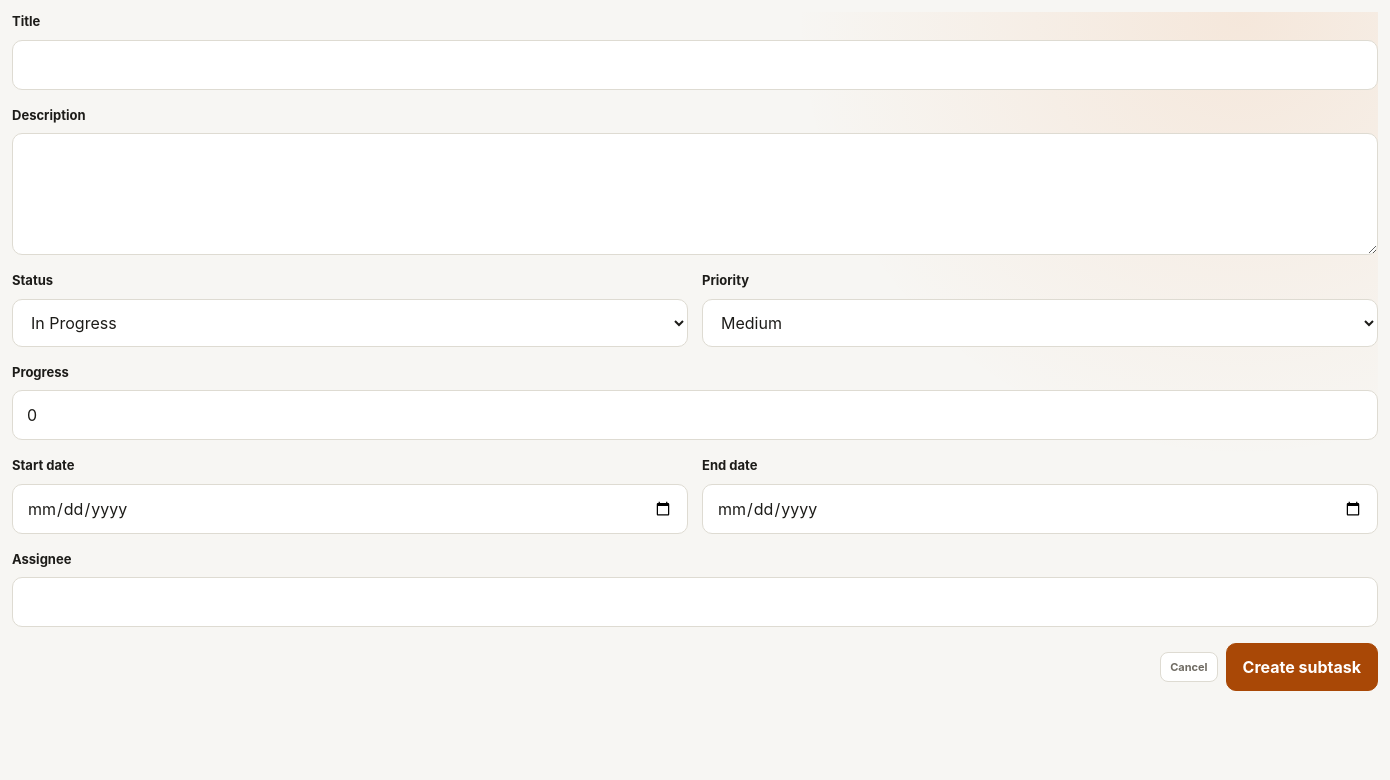
it: WorkItemForm › shows clear validation errors without submitting
Step 1. Replace the text in the number field labelled "Progress" with "150" → (695, 415), box [12,390,1378,440]
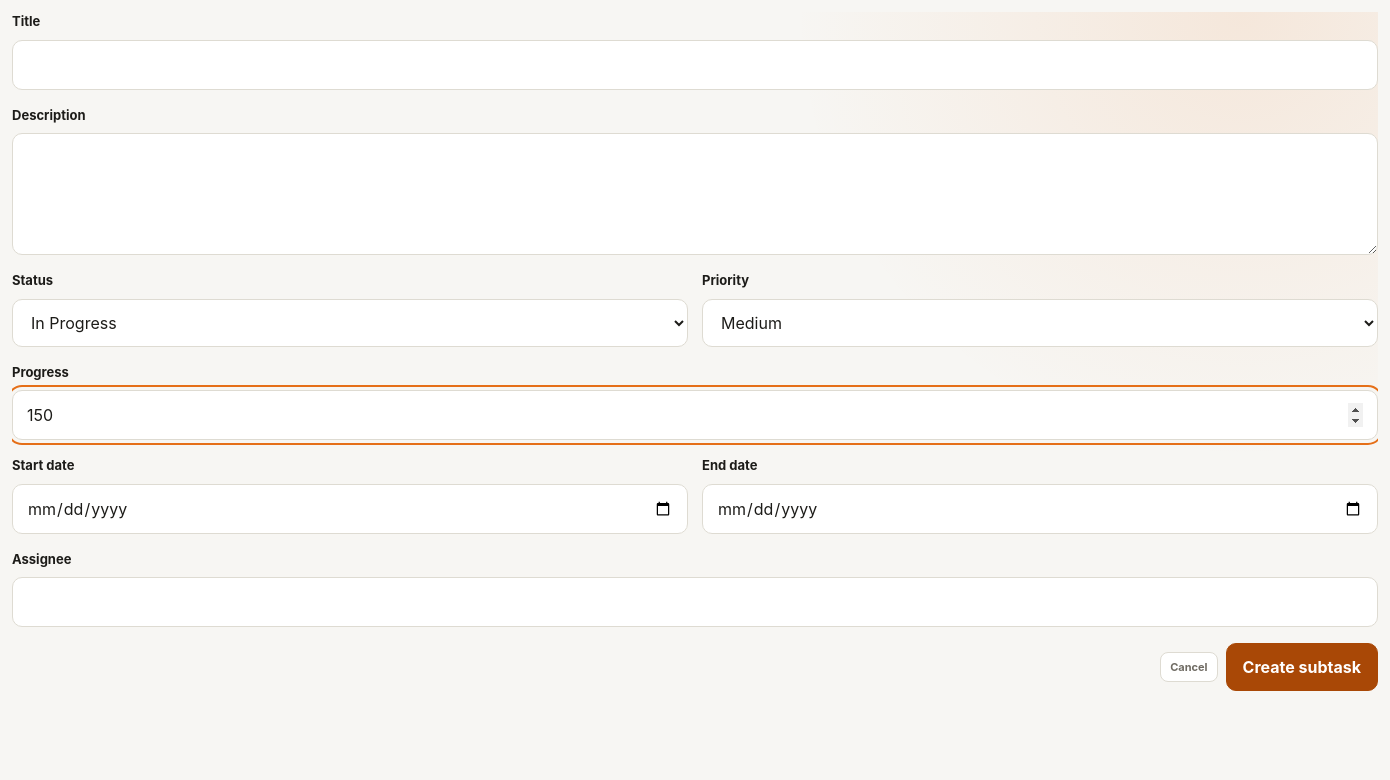
Step 2. Click the button "Create subtask" → (1302, 667), box [1226,643,1378,691]
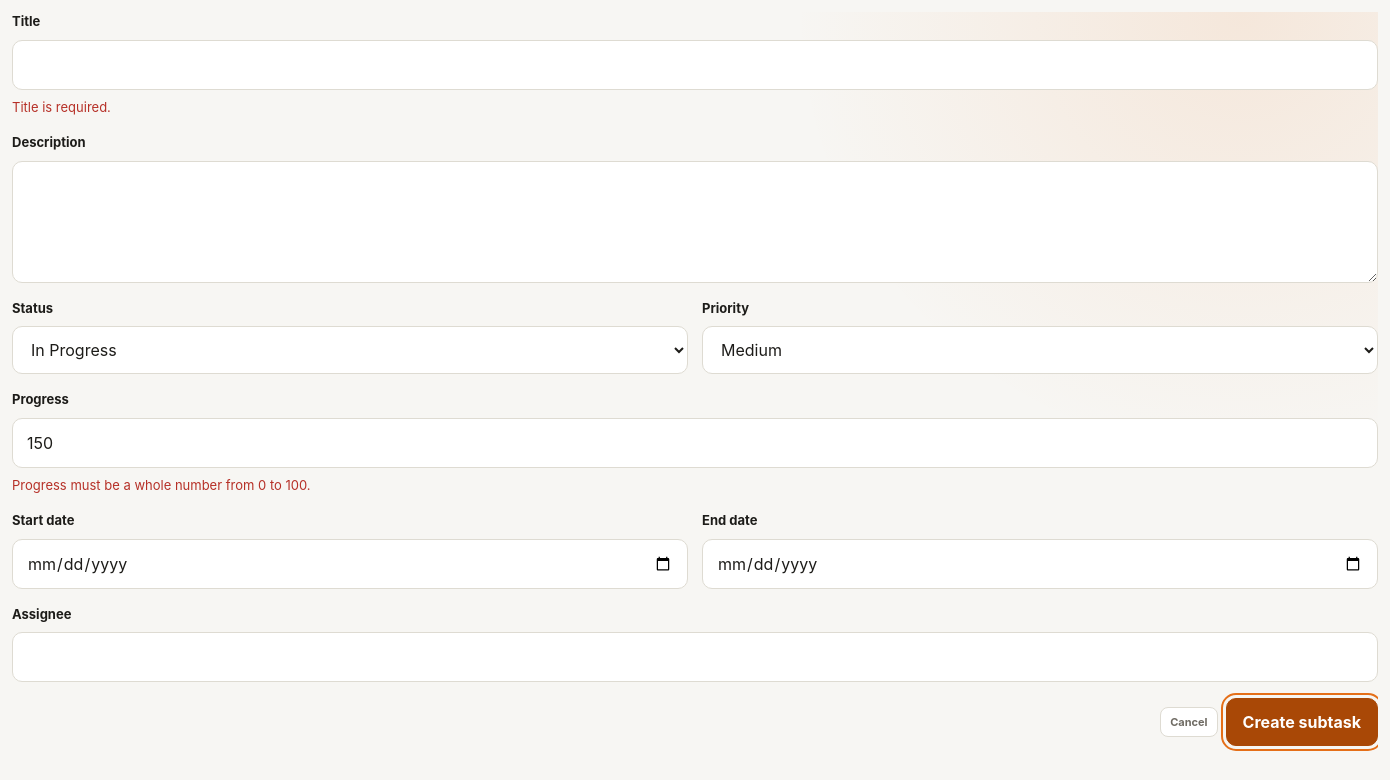
Check: the text "Title is required." is shown, box [12,98,111,114]
Check: the text "Progress must be a whole number from 0 to 100." is shown, box [12,476,311,492]
